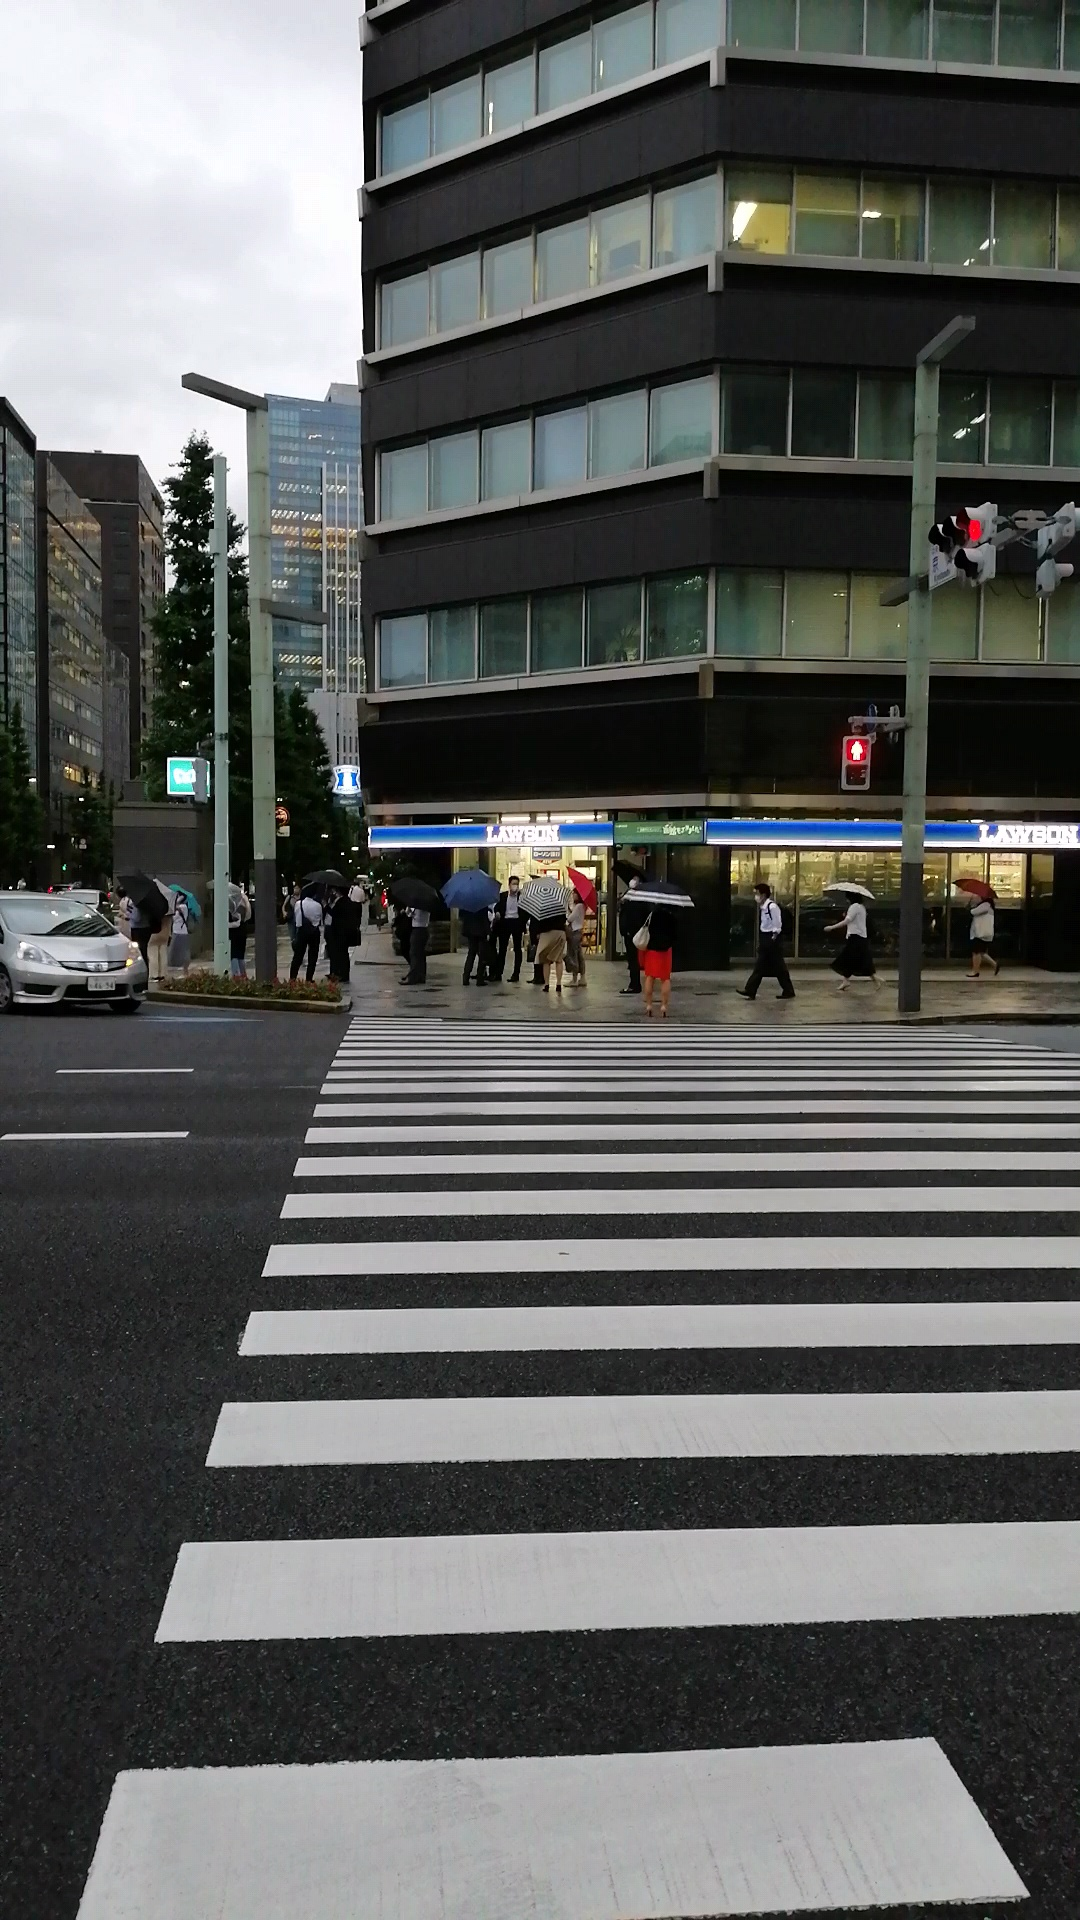red: (843, 735, 872, 789)
